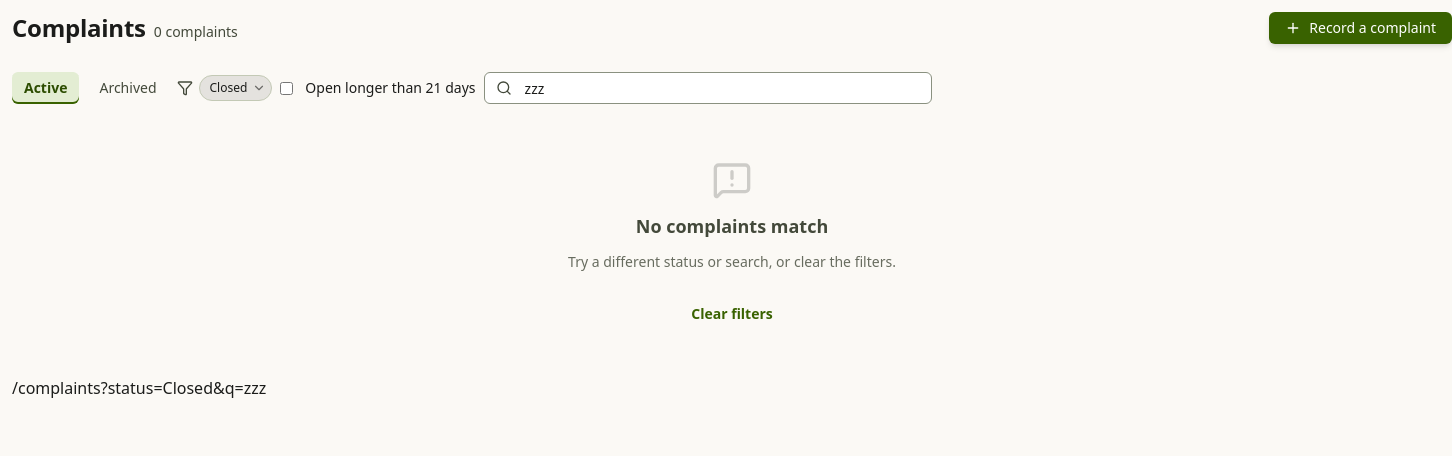
Scenario: ComplaintsPage › no matches: Clear filters removes status, open and q
Check: the text "No complaints match" is shown, box 636,212 -> 828,240
Click the button "Clear filters" at (732, 314), box 683,292 -> 781,336
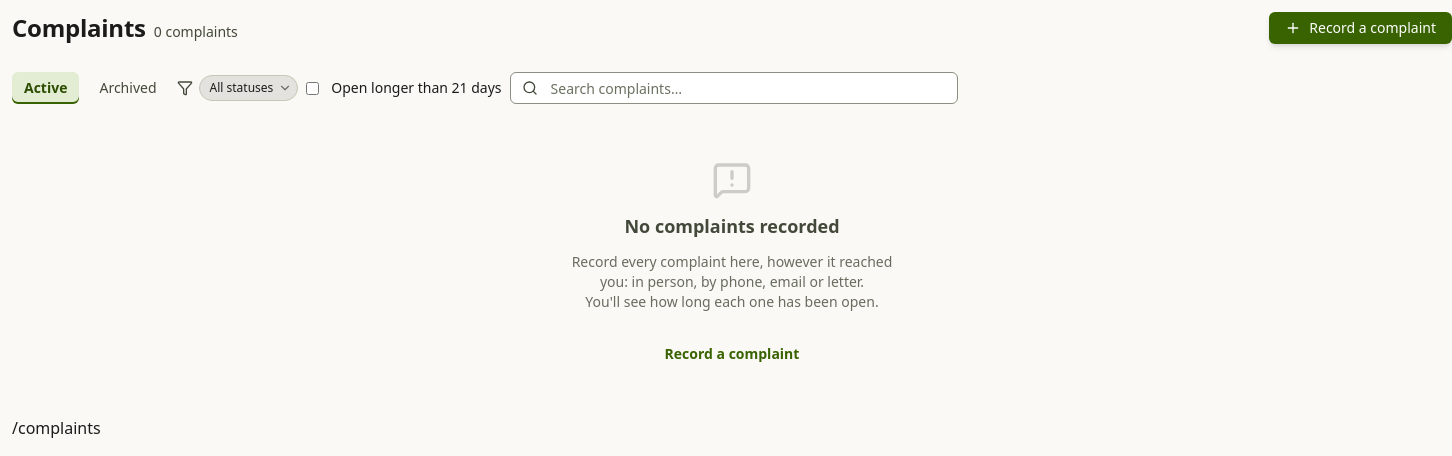
Check: the text with test id "where" reads "/complaints", box 12,417 -> 101,439
